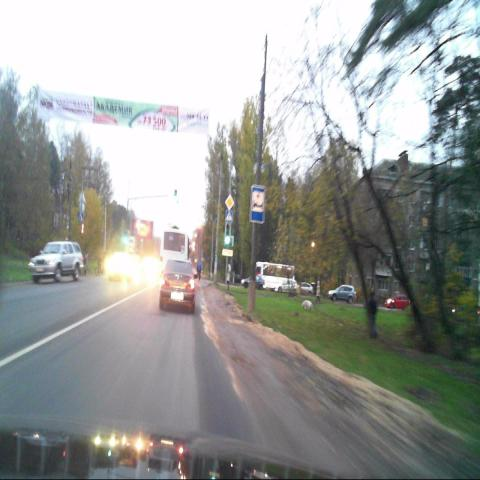7_2: (250, 184, 264, 222)
